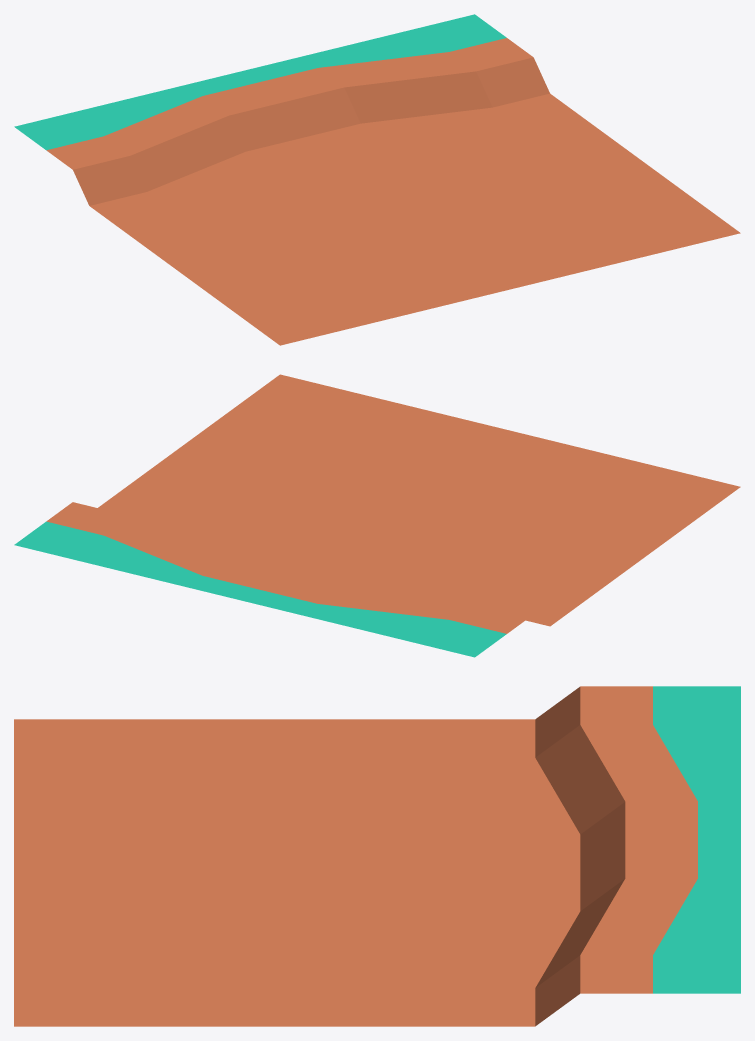
File: ground_pathSide.glb
The picture shows the model from 3 angles, top to bottom: view 1: azimuth 30°, elevation 25°; view 2: azimuth 150°, elevation 25°; view 3: azimuth 270°, elevation 25°; orthographic projection. The views are drawn at different scales.
Visible parts, largest first — view 1: ground_pathSide; view 2: ground_pathSide; view 3: ground_pathSide.
Part boxes in pixels (x1,y1,x2,y2): ground_pathSide: (14, 14, 740, 345); ground_pathSide: (14, 374, 740, 657); ground_pathSide: (14, 686, 740, 1026).
Size of the model in its own units: 1 by 0.05 by 1.
